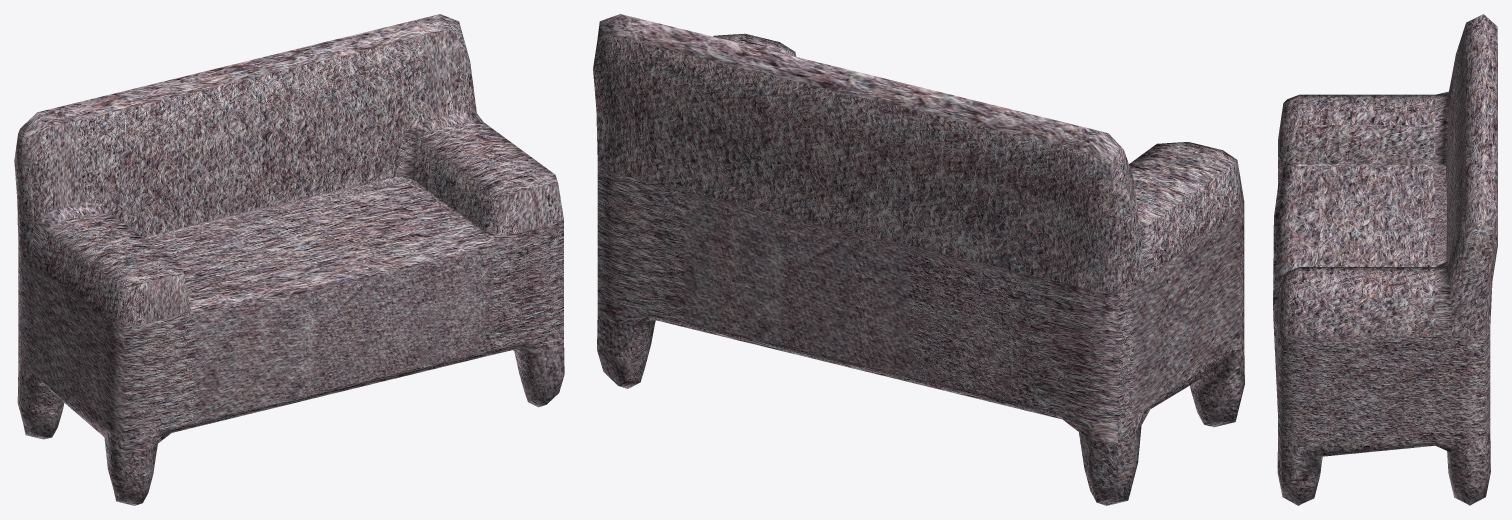
Rendered from Obj_vid_02_Sofa_doble_low_poly_.fbx.
3 views of the same model, side by side, from view 1: azimuth 30°, elevation 25°; view 2: azimuth 150°, elevation 25°; view 3: azimuth 270°, elevation 25° (orthographic). The views are drawn at different scales.
Visible parts, largest first — view 1: Obj_vid_02_Sofa_doble_low_poly; view 2: Obj_vid_02_Sofa_doble_low_poly; view 3: Obj_vid_02_Sofa_doble_low_poly.
Part boxes in pixels (x1,y1,x2,y2): Obj_vid_02_Sofa_doble_low_poly: (14, 14, 564, 505); Obj_vid_02_Sofa_doble_low_poly: (593, 14, 1244, 505); Obj_vid_02_Sofa_doble_low_poly: (1273, 14, 1497, 505).
Bounding box in the file's own units: 1.72 × 1.18 × 0.7865.
